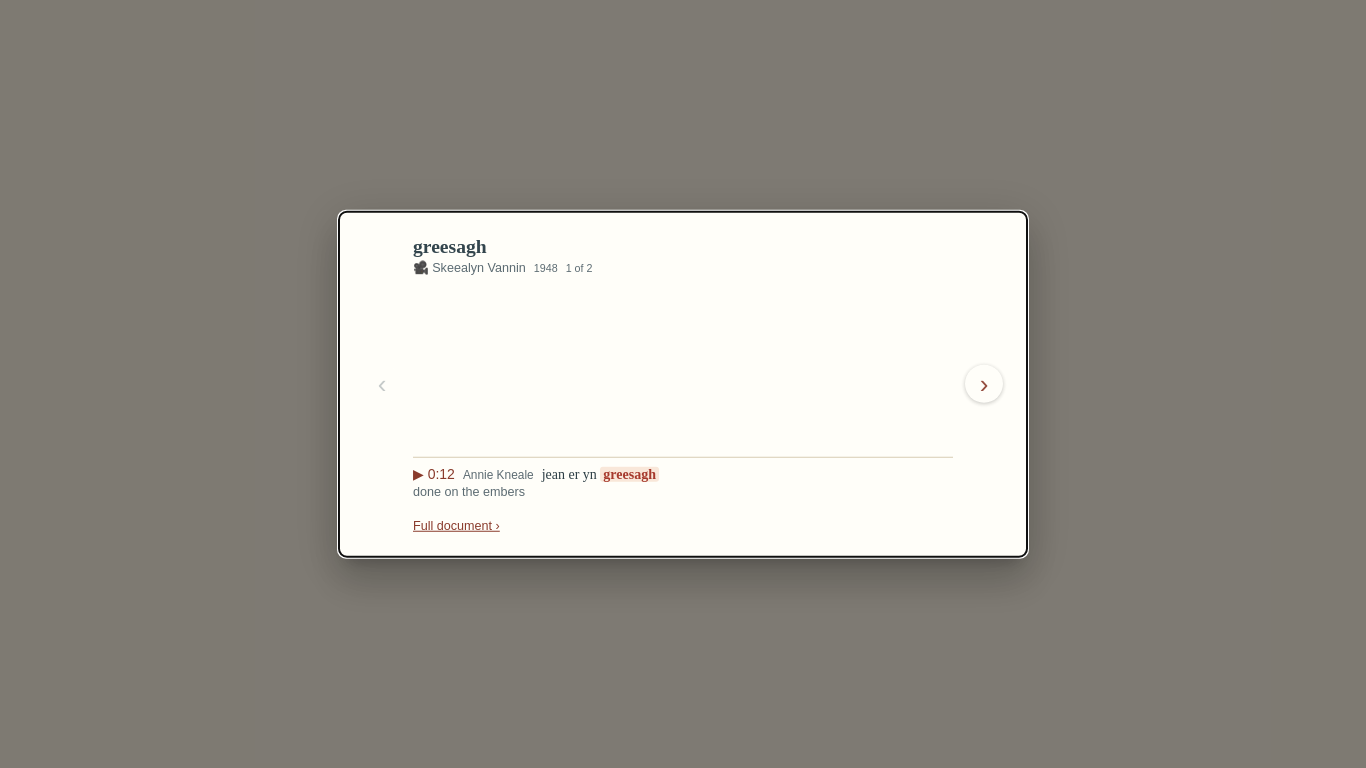
Scenario: AudioAttestationModal › leafs through the recordings with the edge arrows
The width and height of the screenshot is (1366, 768).
Expected: the text "▶ 0:12" is shown, [413,465,455,481]
Expected: the text "1 of 2" is shown, [566,262,592,274]
Click the button named "Next recording". click: (984, 384)
box: [965,365,1003,403]
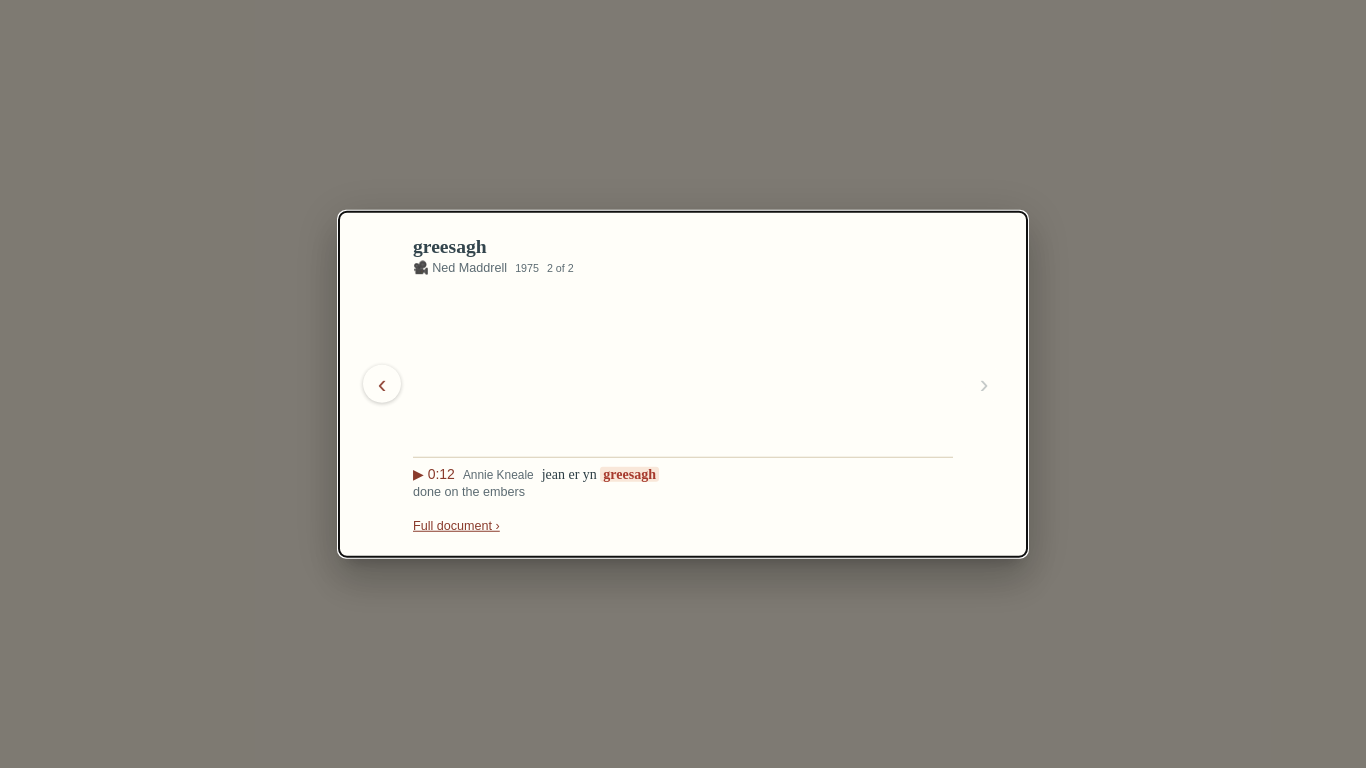
Expected: the text "🎥 Ned Maddrell" is shown, [413,261,507,275]
Expected: the text "2 of 2" is shown, [547,262,574,274]
Expected: the button named "Next recording" is disabled, [965,365,1003,403]
